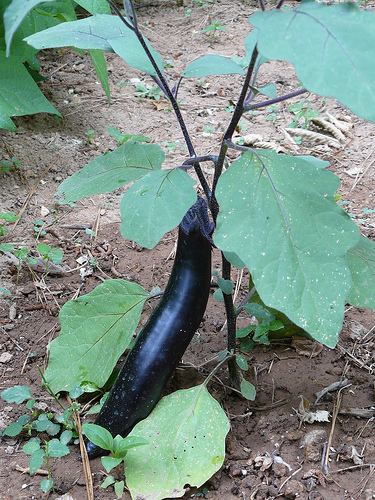eggplant: (72, 182, 217, 462)
